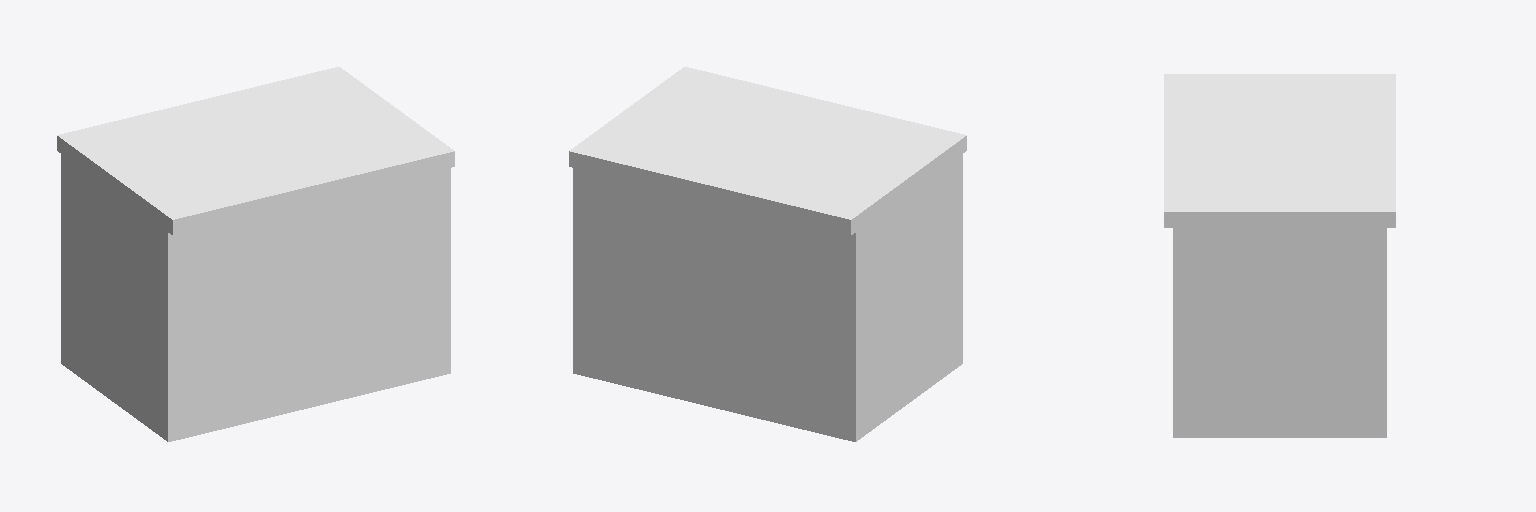
Rendered from ShopTable1.obj.
The picture shows the model from 3 angles: view 1: azimuth 30°, elevation 25°; view 2: azimuth 150°, elevation 25°; view 3: azimuth 270°, elevation 25°; orthographic projection.
Parts seen in each view (by area): view 1: object 1; view 2: object 1; view 3: object 1.
Boxes of the visible parts, <box> form: object 1: <box>57,67,454,441</box>; object 1: <box>569,67,966,441</box>; object 1: <box>1164,74,1395,437</box>.
Size of the model in its own units: 3.8 by 2.9 by 2.7.